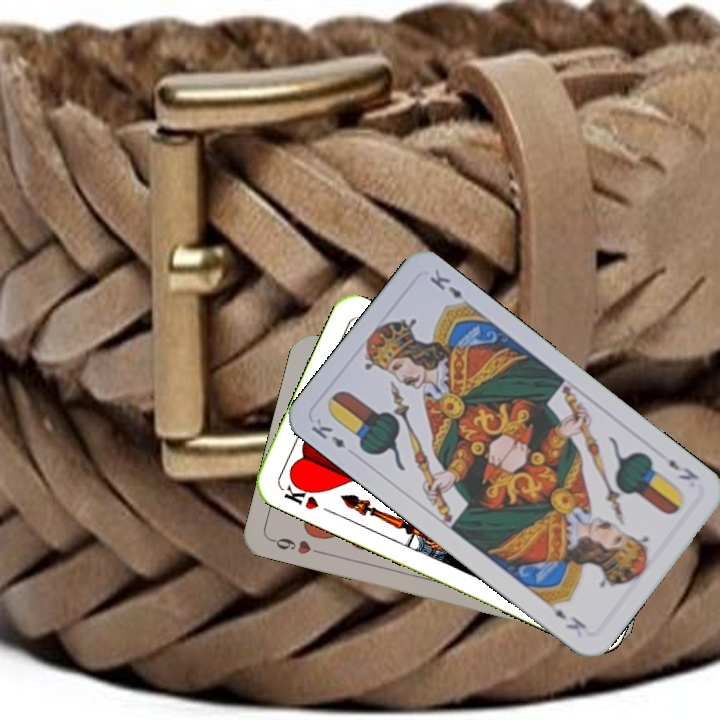EK: (307, 414, 349, 452), (664, 455, 702, 483)
H9: (267, 533, 325, 557)
HK: (277, 476, 321, 513)
